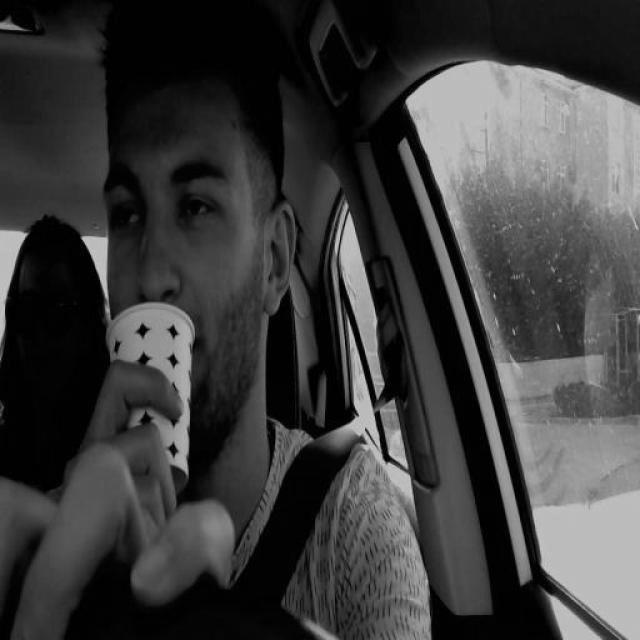Drinking: (105, 301, 197, 488)
